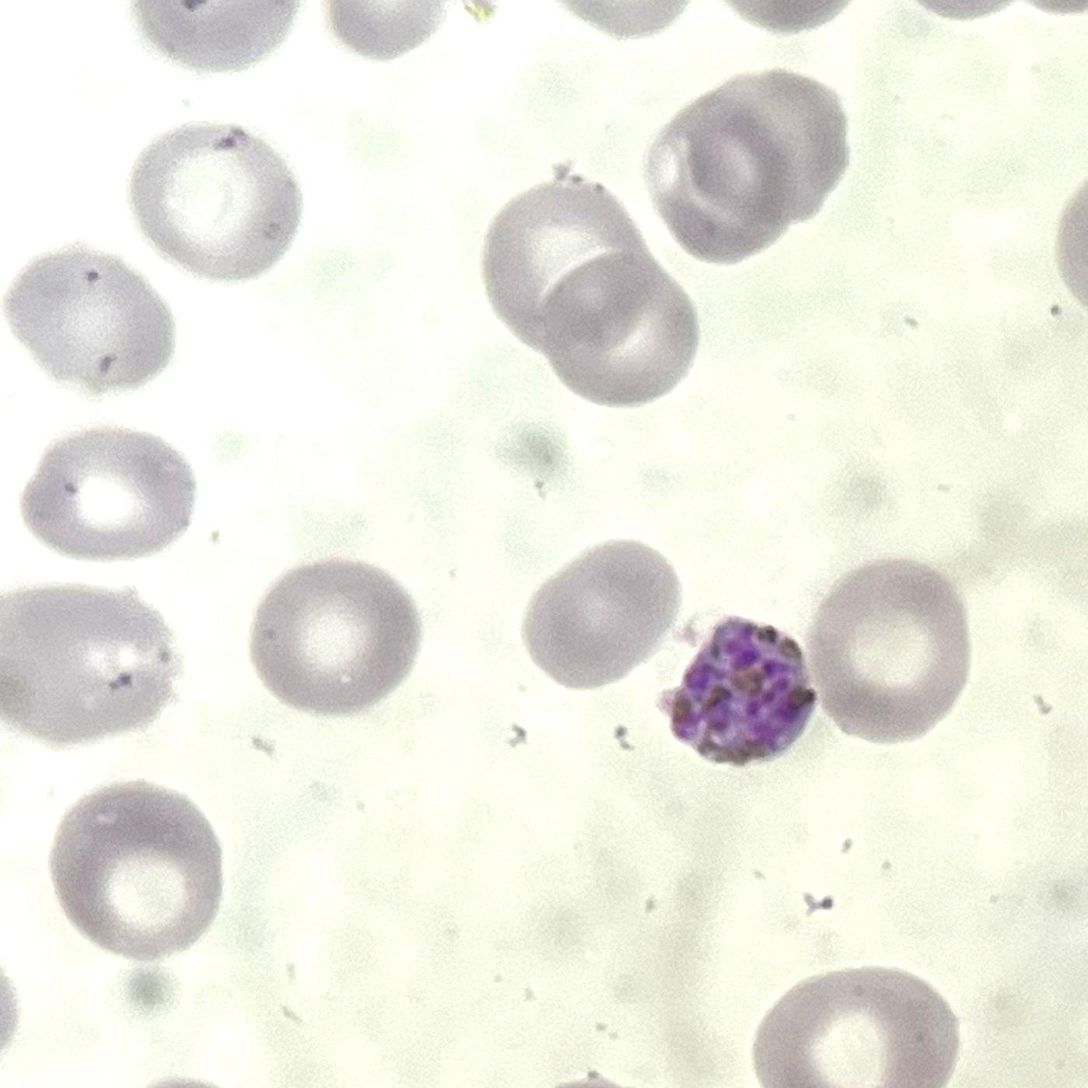Infected: (669, 615, 813, 770)
Uninfected: (805, 555, 966, 742), (49, 784, 218, 957), (0, 588, 182, 742), (247, 554, 420, 713), (482, 185, 642, 349), (749, 965, 960, 1088), (134, 127, 299, 280), (0, 243, 174, 388), (539, 255, 700, 408), (692, 68, 852, 215), (525, 535, 673, 691), (19, 426, 194, 557), (653, 103, 785, 266)
